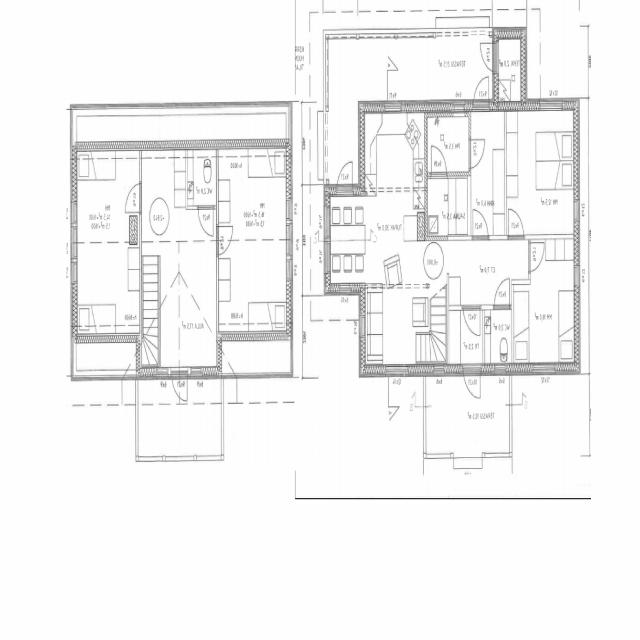door: (463, 364, 480, 408), (477, 44, 499, 72), (337, 155, 352, 196), (463, 305, 480, 341), (172, 365, 187, 405), (474, 72, 489, 111), (431, 143, 447, 178), (494, 276, 510, 310), (508, 207, 524, 240), (528, 242, 546, 271), (124, 183, 142, 212), (216, 226, 234, 255), (468, 140, 486, 168), (473, 207, 488, 240), (198, 206, 213, 238)
